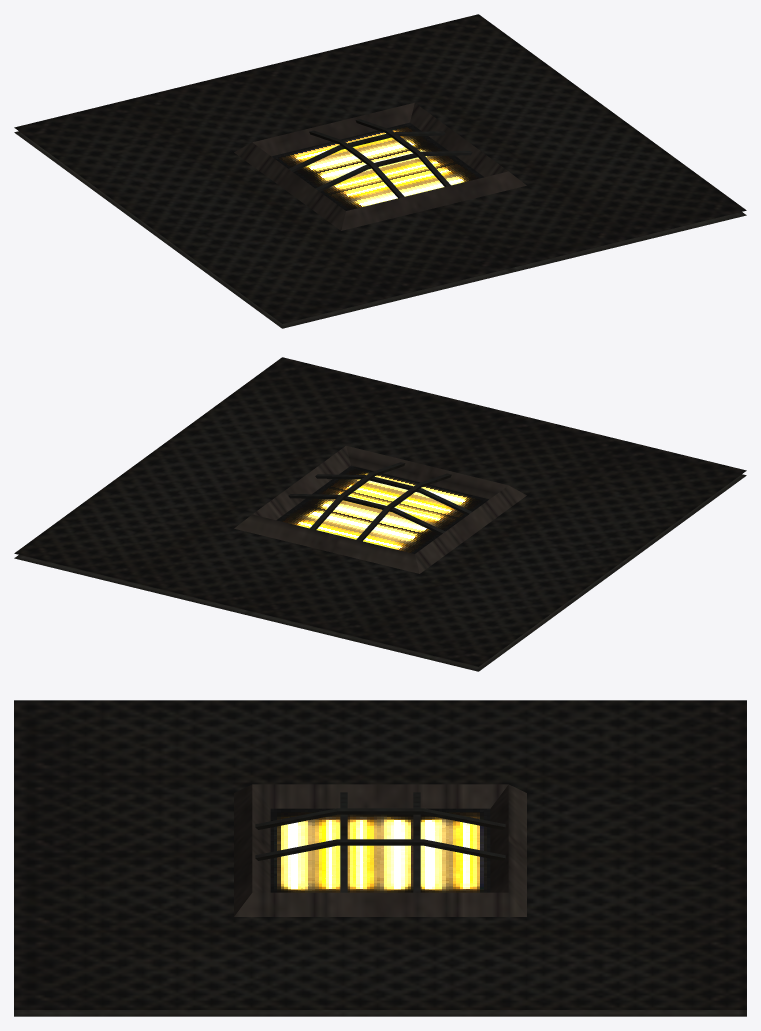
The model's file is floor_3.fbx.
3 renders of one model, top to bottom at view 1: azimuth 30°, elevation 25°; view 2: azimuth 150°, elevation 25°; view 3: azimuth 270°, elevation 25°, orthographic. The views are drawn at different scales.
Parts seen in each view (by area): view 1: floor_3; view 2: floor_3; view 3: floor_3.
Part boxes in pixels (box(x1,y1,x2,y2)): floor_3: box(14, 14, 746, 328); floor_3: box(14, 357, 746, 671); floor_3: box(14, 700, 746, 1016).
Size of the model in its own units: 200 by 11 by 200.
